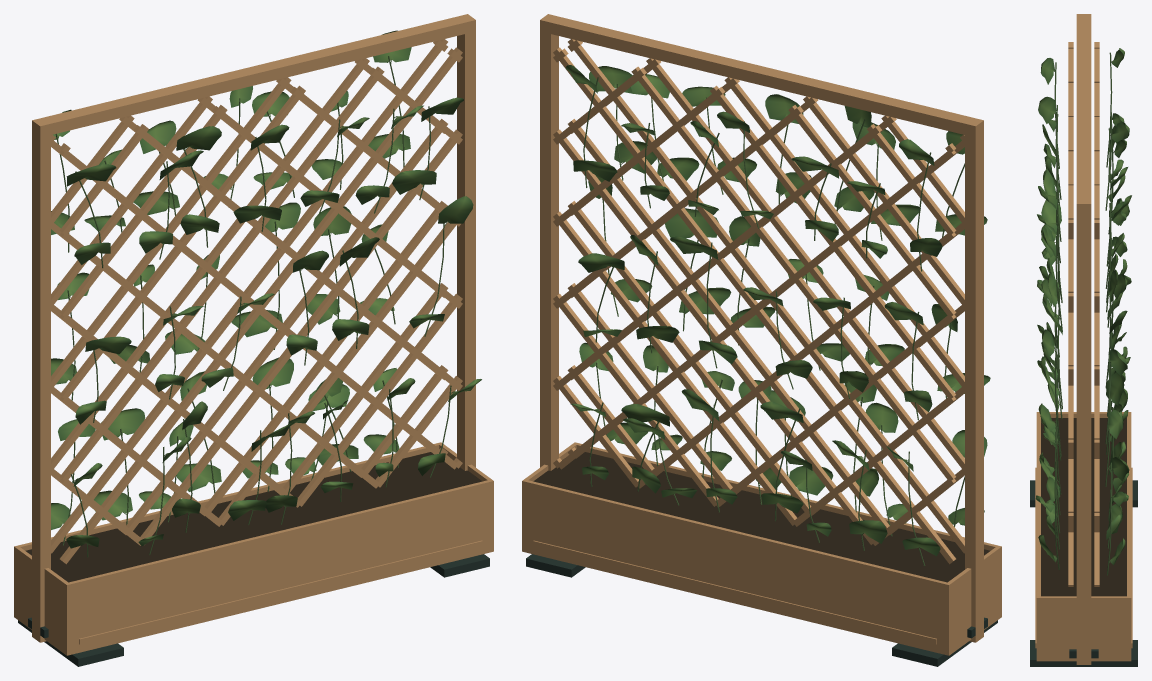
File: botanicalDivider-5.glb
3 views of the same model, side by side, from view 1: azimuth 30°, elevation 25°; view 2: azimuth 150°, elevation 25°; view 3: azimuth 270°, elevation 25° (orthographic). The views are drawn at different scales.
Visible parts, largest first — view 1: Botanical_frame_finish, Botanical_living_foliage, Botanical_recessed_soil, Botanical_connected_stems, Botanical_powdercoat; view 2: Botanical_frame_finish, Botanical_living_foliage, Botanical_recessed_soil, Botanical_connected_stems, Botanical_powdercoat; view 3: Botanical_frame_finish, Botanical_living_foliage, Botanical_recessed_soil, Botanical_connected_stems, Botanical_powdercoat.
Part boxes in pixels (left/top/right/bottom): Botanical_frame_finish: left=14, top=14, right=493, bottom=655; Botanical_living_foliage: left=51, top=30, right=481, bottom=548; Botanical_recessed_soil: left=25, top=452, right=482, bottom=582; Botanical_connected_stems: left=55, top=56, right=453, bottom=557; Botanical_powdercoat: left=18, top=554, right=489, bottom=666; Botanical_frame_finish: left=522, top=14, right=1001, bottom=655; Botanical_living_foliage: left=565, top=65, right=990, bottom=556; Botanical_recessed_soil: left=533, top=452, right=990, bottom=582; Botanical_connected_stems: left=583, top=77, right=964, bottom=565; Botanical_powdercoat: left=526, top=554, right=997, bottom=666; Botanical_frame_finish: left=1035, top=14, right=1132, bottom=664; Botanical_living_foliage: left=1035, top=48, right=1131, bottom=565; Botanical_recessed_soil: left=1041, top=418, right=1126, bottom=596; Botanical_connected_stems: left=1053, top=52, right=1114, bottom=575; Botanical_powdercoat: left=1030, top=480, right=1137, bottom=666.
Size of the model in its own units: 2 by 2.3 by 0.48.
